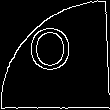O_S: (32, 28, 78, 82)
